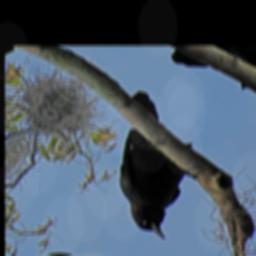Crow: (60, 88, 242, 243)
